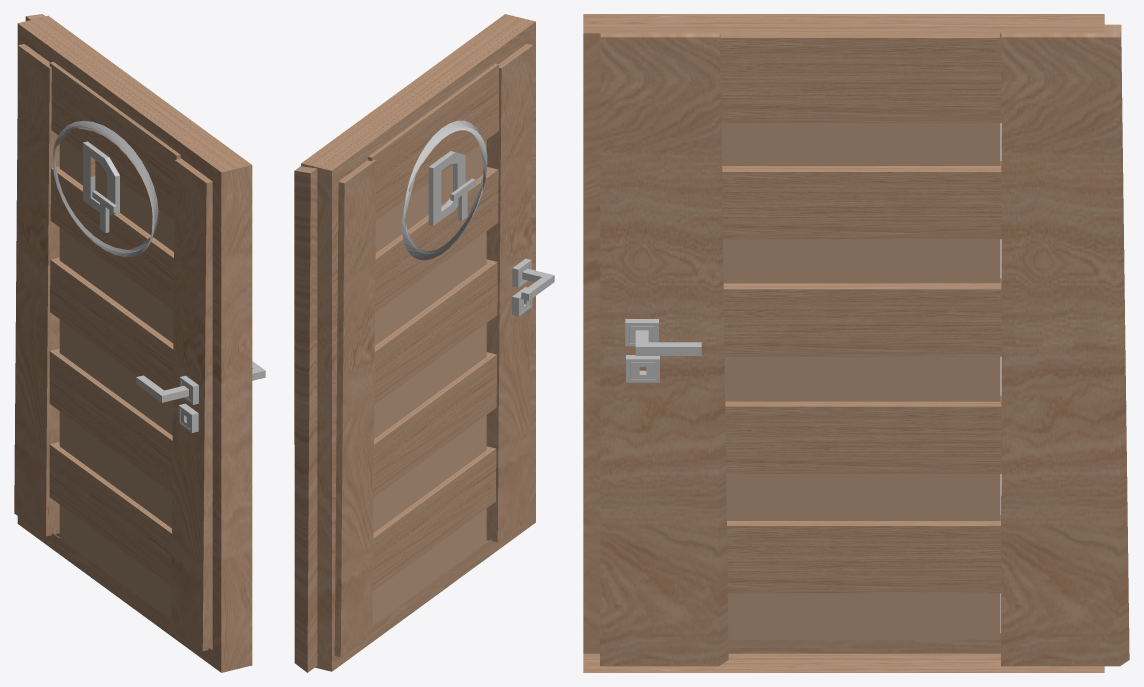
Rendered from Dør.fbx.
3 renders of one model, left to right at view 1: azimuth 30°, elevation 25°; view 2: azimuth 150°, elevation 25°; view 3: azimuth 270°, elevation 25°, orthographic. The views are drawn at different scales.
Visible parts, largest first — view 1: Cube.010; view 2: Cube.010; view 3: Cube.010.
Boxes of the visible parts, <box> form: Cube.010: <box>14,14,265,672</box>; Cube.010: <box>294,14,554,672</box>; Cube.010: <box>583,14,1129,672</box>.
Bounding box in the file's own units: 277 × 1276 × 987.
